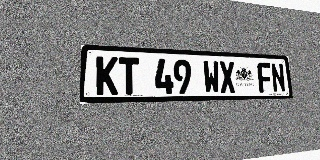4: (154, 58, 174, 94)
9: (173, 59, 192, 94)
F: (257, 62, 273, 93)
K: (96, 56, 118, 95)
N: (270, 63, 286, 92)
T: (119, 57, 139, 95)
W: (202, 60, 220, 93)
X: (219, 61, 236, 93)
